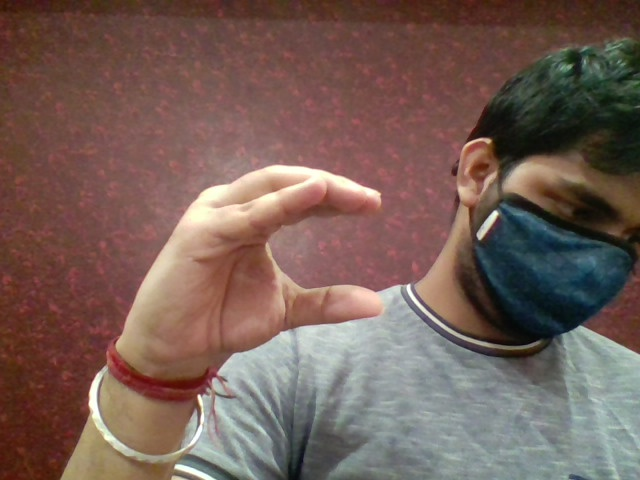c: (130, 161, 395, 331)
